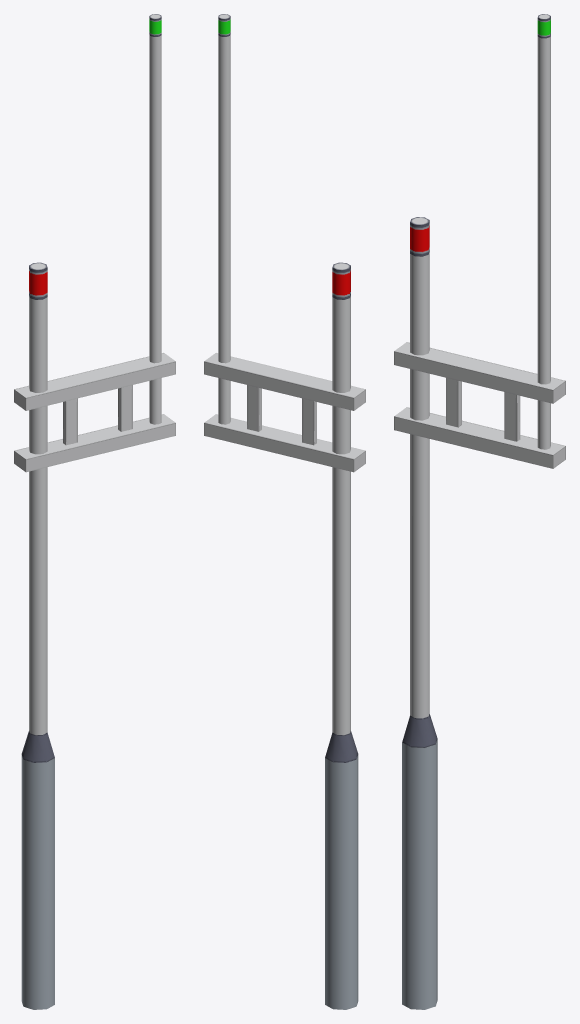
File: Antena_02.FBX
3 views of the same model, side by side, from view 1: azimuth 30°, elevation 25°; view 2: azimuth 150°, elevation 25°; view 3: azimuth 330°, elevation 25° (orthographic). The views are drawn at different scales.
Parts seen in each view (by area): view 1: Antena_02; view 2: Antena_02; view 3: Antena_02.
Part boxes in pixels (bbox=[...]): Antena_02: bbox=[14, 14, 175, 1009]; Antena_02: bbox=[204, 14, 365, 1009]; Antena_02: bbox=[394, 14, 565, 1009].
Bounding box in the file's own units: 0.639 × 3.9 × 0.1269.
1 material, 1 textured.
